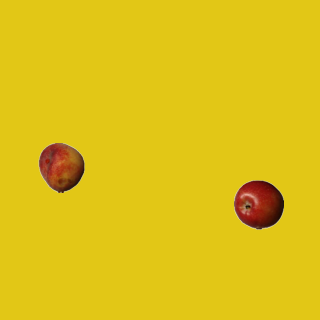Apple Braeburn: (233, 179, 283, 229)
Peach: (36, 142, 86, 192)
